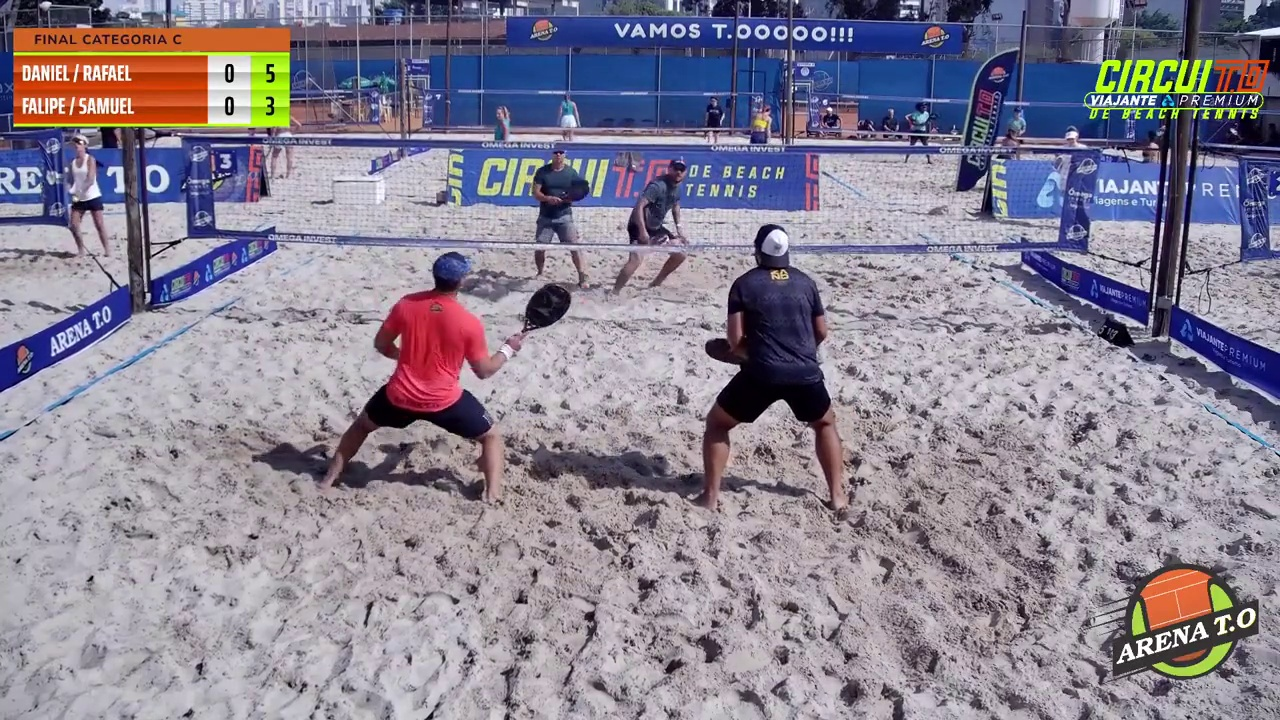court_line: (627, 0, 813, 402), (548, 0, 669, 489)
